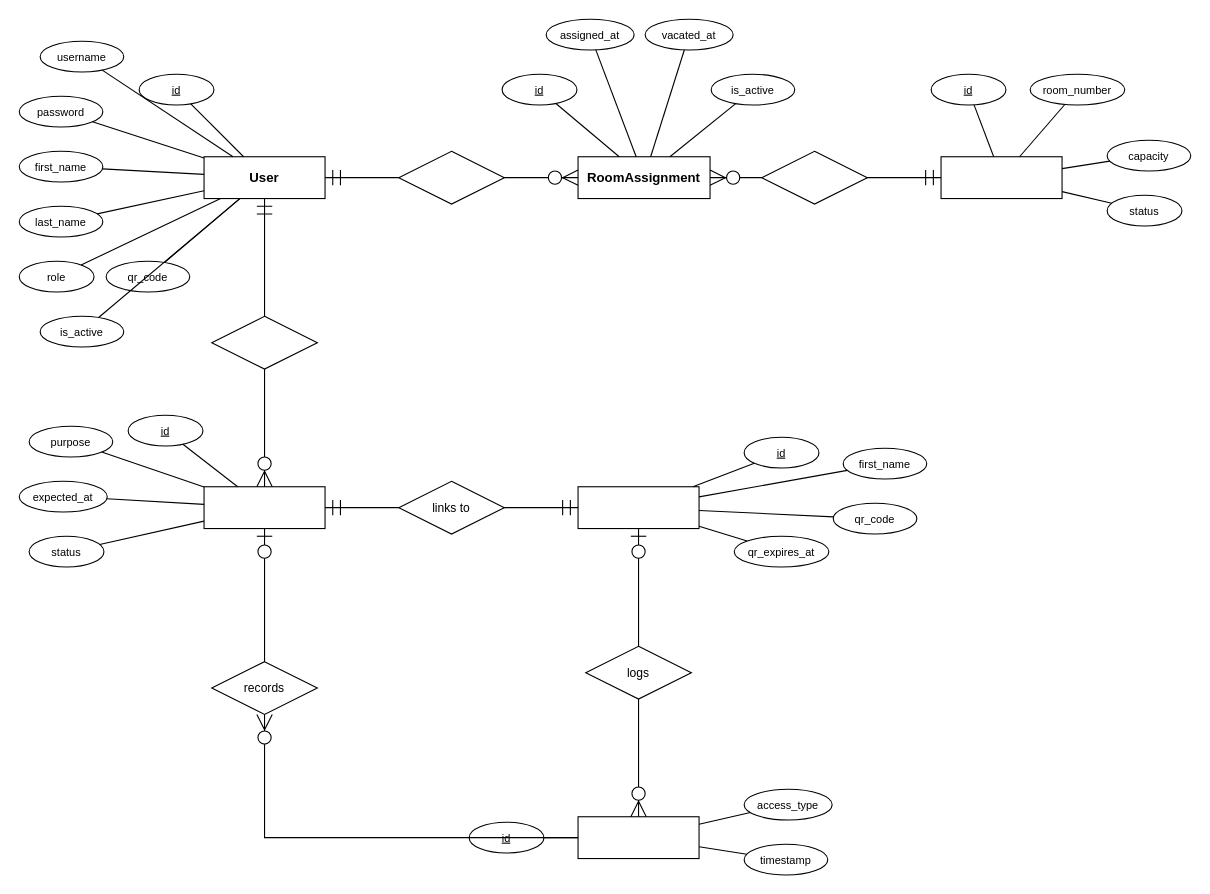
Some shapes in this 1210 by 894 pixel diagram are drawn without their labels. Here are the shapes that lost their labels. From the top down, the centre of each, then its label:
the point at 451,177: assigned
the point at 814,177: allocates
the point at 1001,177: Room
the point at 264,342: submits
the point at 264,507: VisitorRequest
the point at 638,507: Visitor
the point at 638,837: AccessLog
